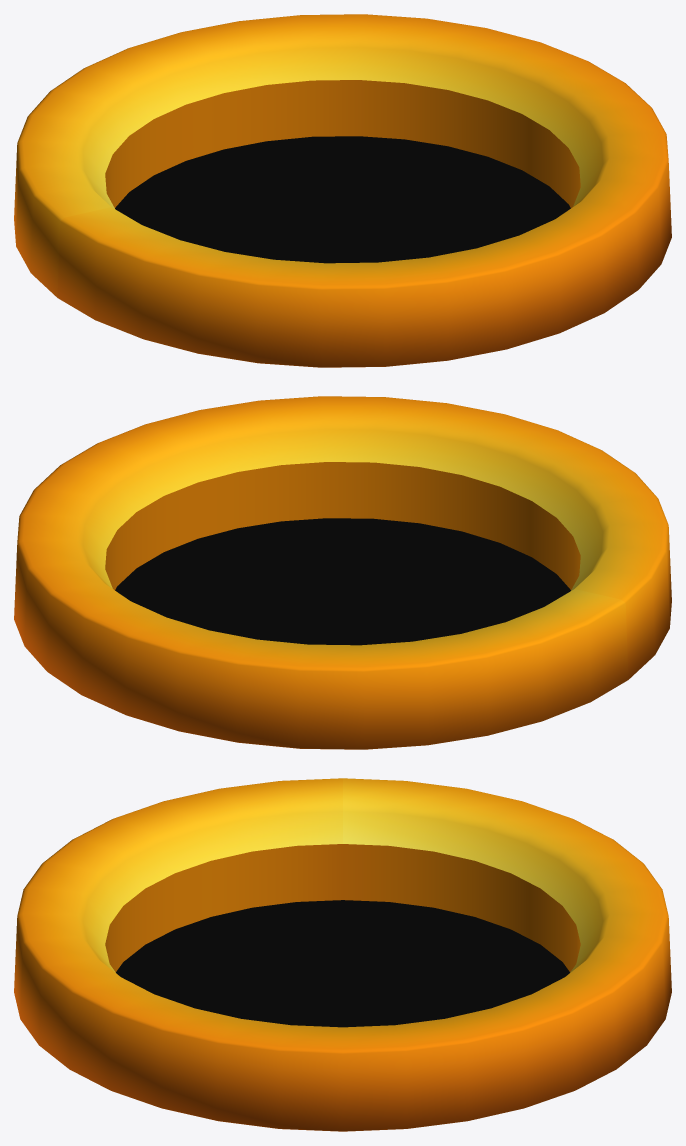
Rendered from hole 1.fbx.
3 renders of one model, top to bottom at view 1: azimuth 30°, elevation 25°; view 2: azimuth 150°, elevation 25°; view 3: azimuth 270°, elevation 25°, orthographic.
Visible parts, largest first — view 1: hole.002; view 2: hole.002; view 3: hole.002.
Boxes of the visible parts, left/top/right/bottom form: hole.002: left=14, top=14, right=671, bottom=367; hole.002: left=14, top=396, right=671, bottom=749; hole.002: left=14, top=778, right=671, bottom=1131.
Size of the model in its own units: 10.12 by 1.47 by 10.12.
